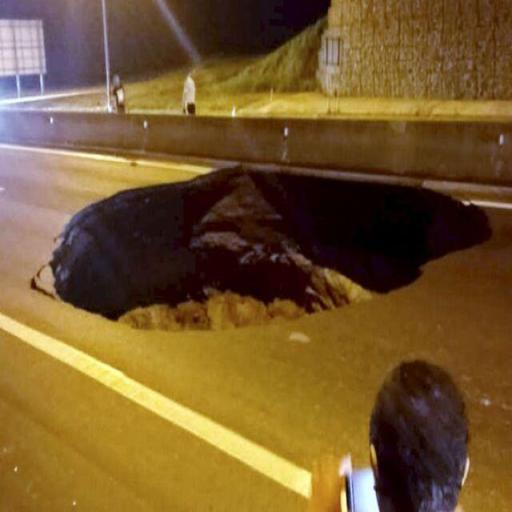Concentric_Crack: (31, 167, 491, 330)
